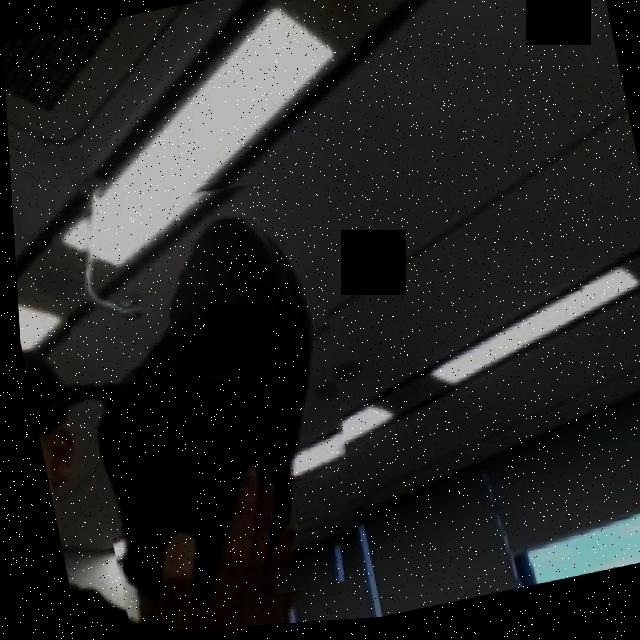shoe: (42, 161, 385, 630)
